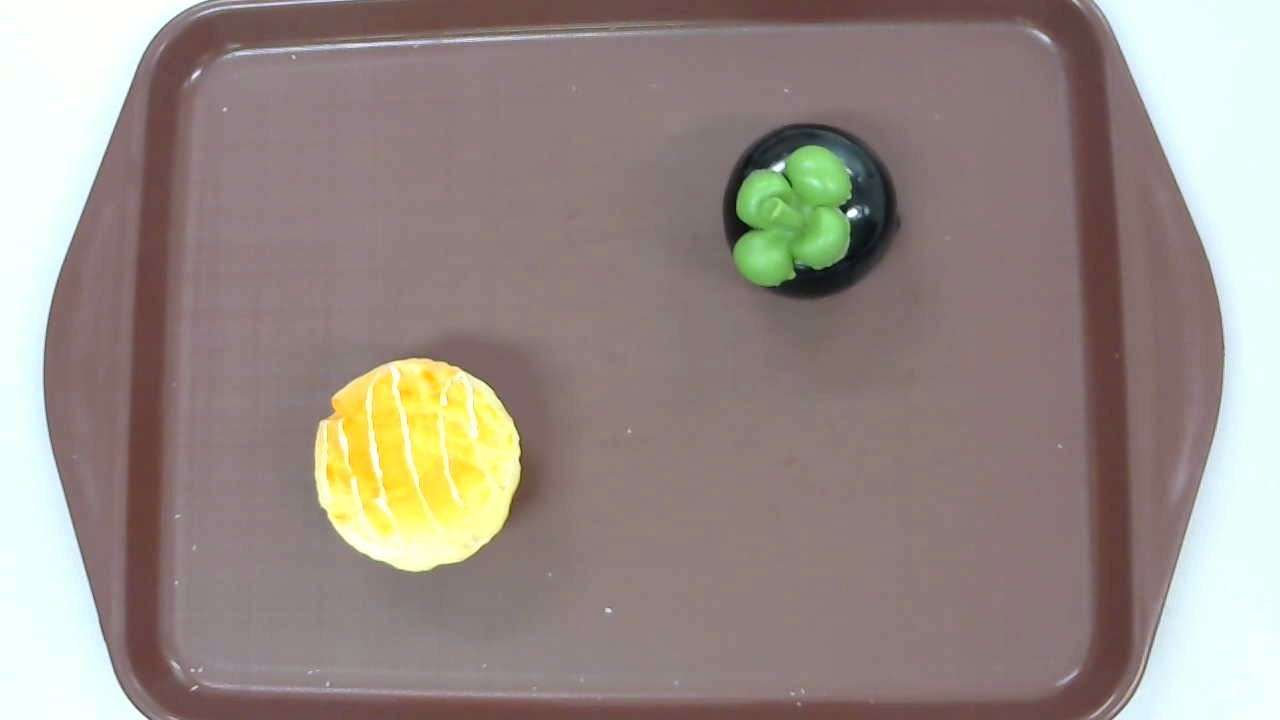cupcake: (313, 357, 523, 574)
mangosteen: (721, 122, 902, 302)
